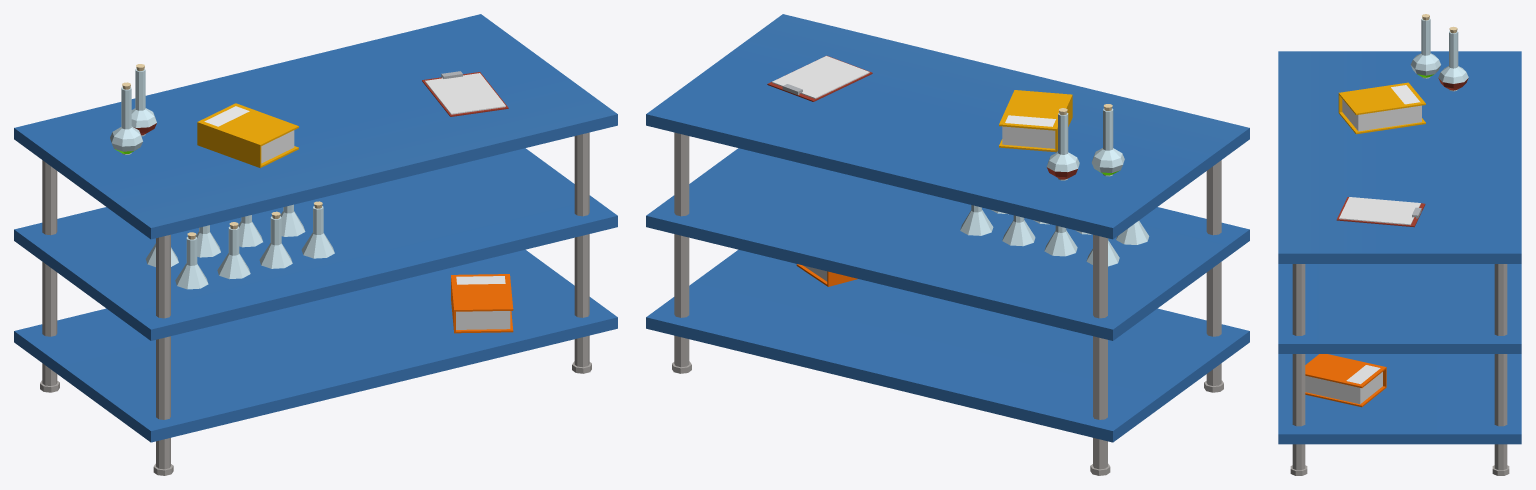
Rendered from Table_with_flasks.fbx.
3 renders of one model, left to right at view 1: azimuth 30°, elevation 25°; view 2: azimuth 150°, elevation 25°; view 3: azimuth 270°, elevation 25°, orthographic. The views are drawn at different scales.
Visible parts, largest first — view 1: Cylinder.002; view 2: Cylinder.002; view 3: Cylinder.002.
Boxes of the visible parts, x1,y1,x2,y2 form: Cylinder.002: (14, 14, 617, 475); Cylinder.002: (646, 14, 1249, 475); Cylinder.002: (1278, 14, 1521, 475).
Bounding box in the file's own units: 222 × 149 × 113.
